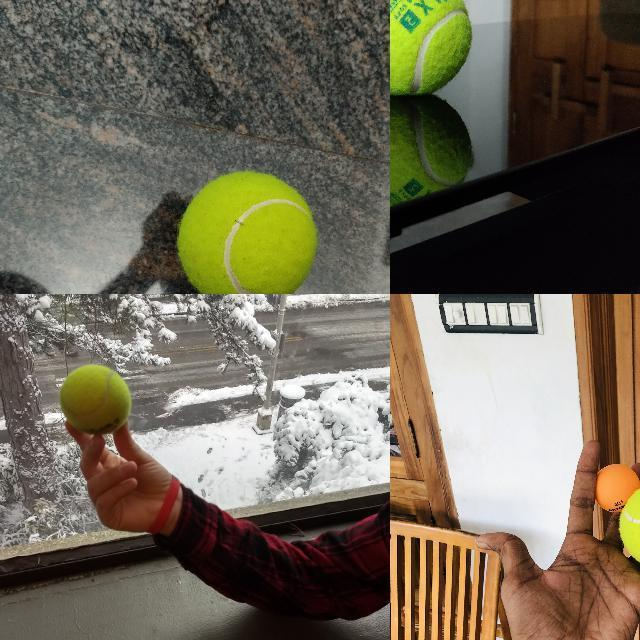tennis-ball: (177, 170, 317, 293), (390, 0, 473, 96), (59, 364, 132, 435), (619, 481, 639, 553)
